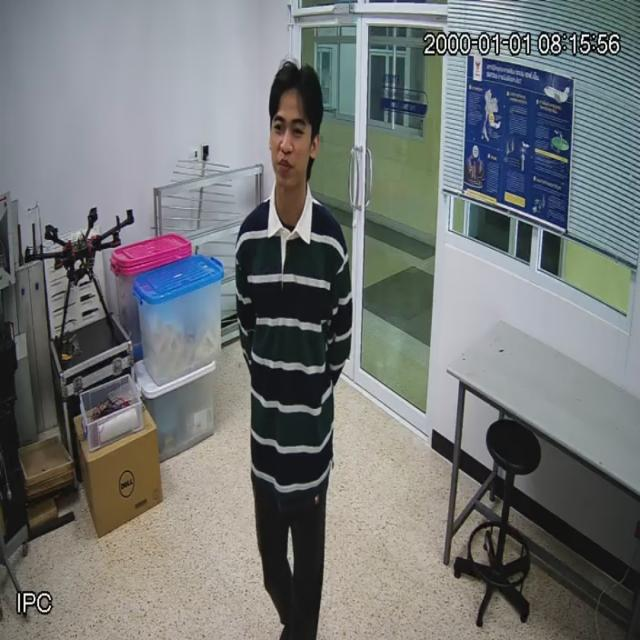normal: (233, 59, 353, 636)
